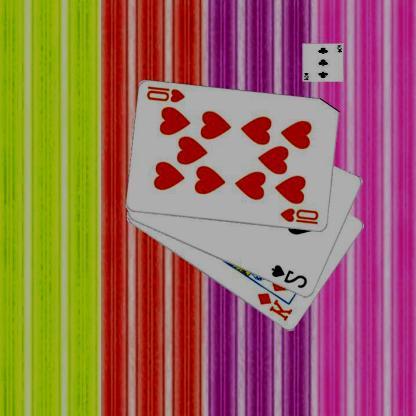10H: (146, 84, 188, 104), (280, 206, 321, 226)
2S: (271, 262, 310, 290)
KD: (256, 290, 296, 322)
